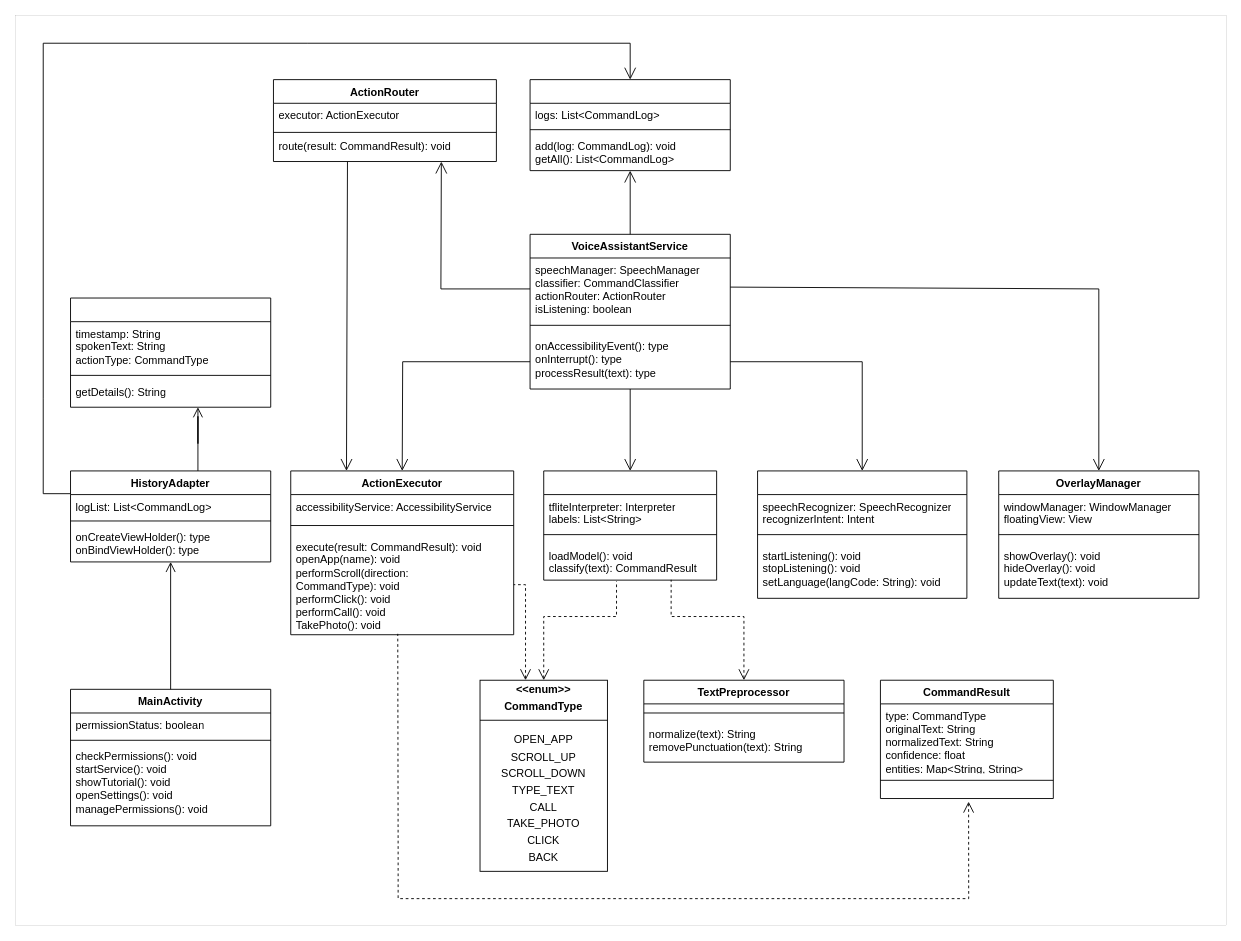
The diagram is 1241 pixels wide and 941 high, and some of its shapes have lost their labels. Each missing label, with the box of its shape:
CommandClassifier: (543, 470, 717, 580)
CommandLog: (70, 297, 271, 407)
CommandLogger: (529, 79, 730, 171)
SpeechManager: (757, 470, 967, 598)
